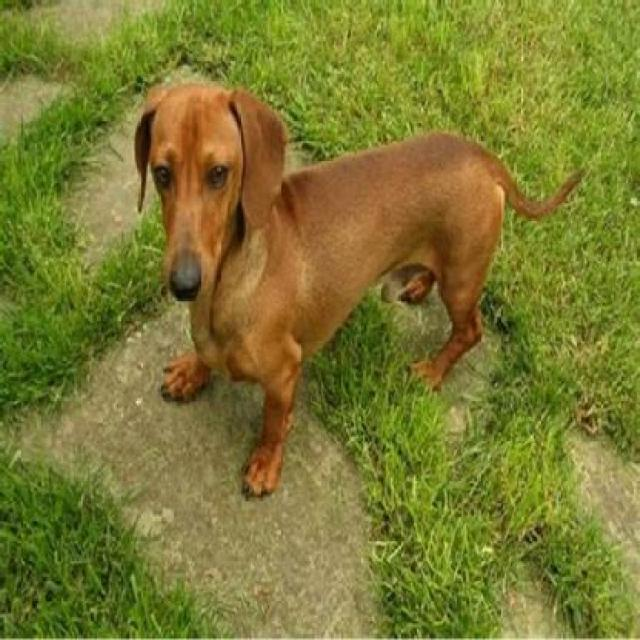Dog: (129, 78, 591, 504)
